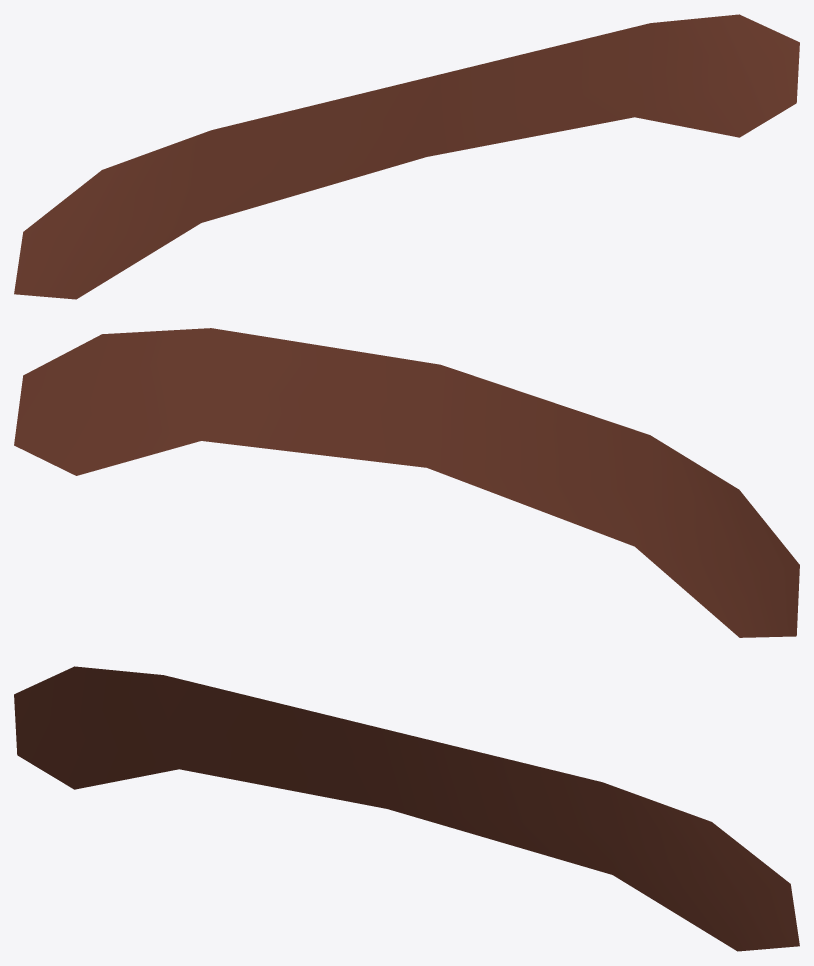
The model's file is Mouth_Brown_5.fbx.
3 renders of one model, top to bottom at view 1: azimuth 30°, elevation 25°; view 2: azimuth 150°, elevation 25°; view 3: azimuth 330°, elevation 25°, orthographic.
Visible parts, largest first — view 1: Mouth_Brown_5; view 2: Mouth_Brown_5; view 3: Mouth_Brown_5.
Boxes of the visible parts, x1=… form: Mouth_Brown_5: x1=14, y1=14, x2=799, y2=299; Mouth_Brown_5: x1=14, y1=328, x2=799, y2=637; Mouth_Brown_5: x1=14, y1=666, x2=799, y2=951.
Size of the model in its own units: 8.32 by 1.71 by 0.6506.
